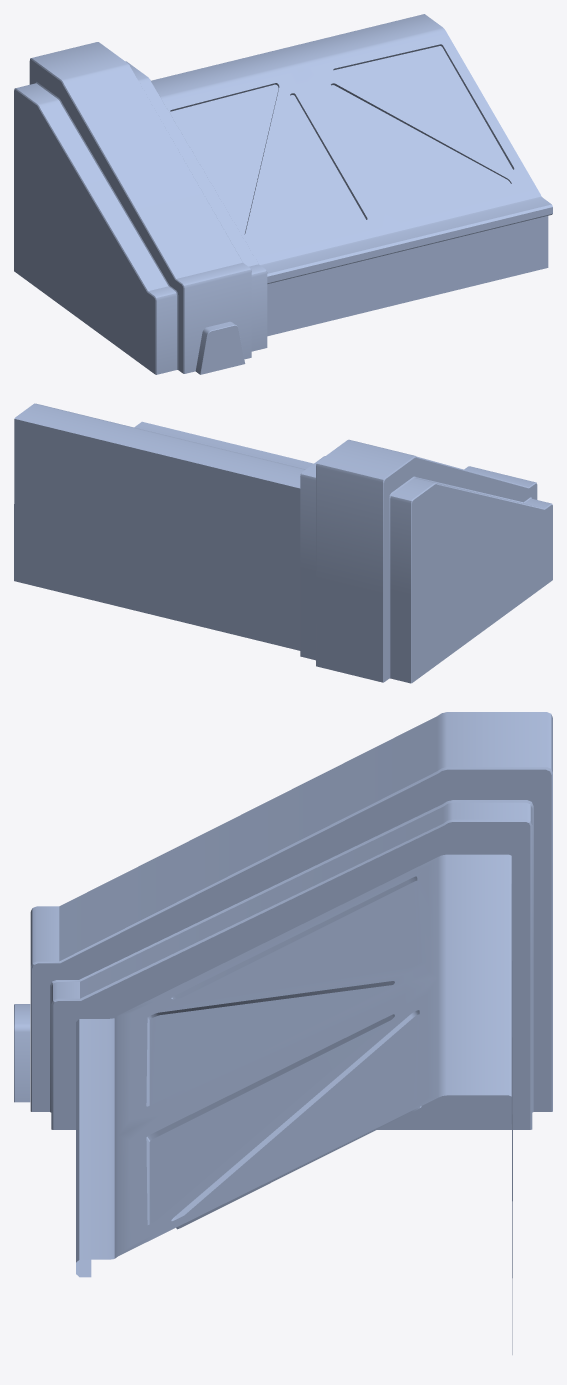
The model's file is Barriere_01_LP.fbx.
3 renders of one model, top to bottom at view 1: azimuth 30°, elevation 25°; view 2: azimuth 150°, elevation 25°; view 3: azimuth 270°, elevation 25°, orthographic. The views are drawn at different scales.
Parts seen in each view (by area): view 1: PilierBarriere_low, Barriere_low, Holo_low, Pilier2Barriere_low; view 2: Barriere_low, PilierBarriere_low; view 3: PilierBarriere_low, Barriere_low, Holo_low, Pilier2Barriere_low.
Part boxes in pixels (bbox=[...]): PilierBarriere_low: bbox=[14, 42, 267, 374]; Barriere_low: bbox=[151, 14, 552, 336]; Holo_low: bbox=[170, 46, 512, 245]; Pilier2Barriere_low: bbox=[195, 321, 245, 374]; Barriere_low: bbox=[14, 403, 313, 650]; PilierBarriere_low: bbox=[300, 439, 552, 683]; PilierBarriere_low: bbox=[30, 712, 552, 1129]; Barriere_low: bbox=[76, 854, 512, 1354]; Holo_low: bbox=[149, 880, 419, 1223]; Pilier2Barriere_low: bbox=[14, 1004, 30, 1102].
Bounding box in the file's own units: 4.15 × 2 × 2.84.
